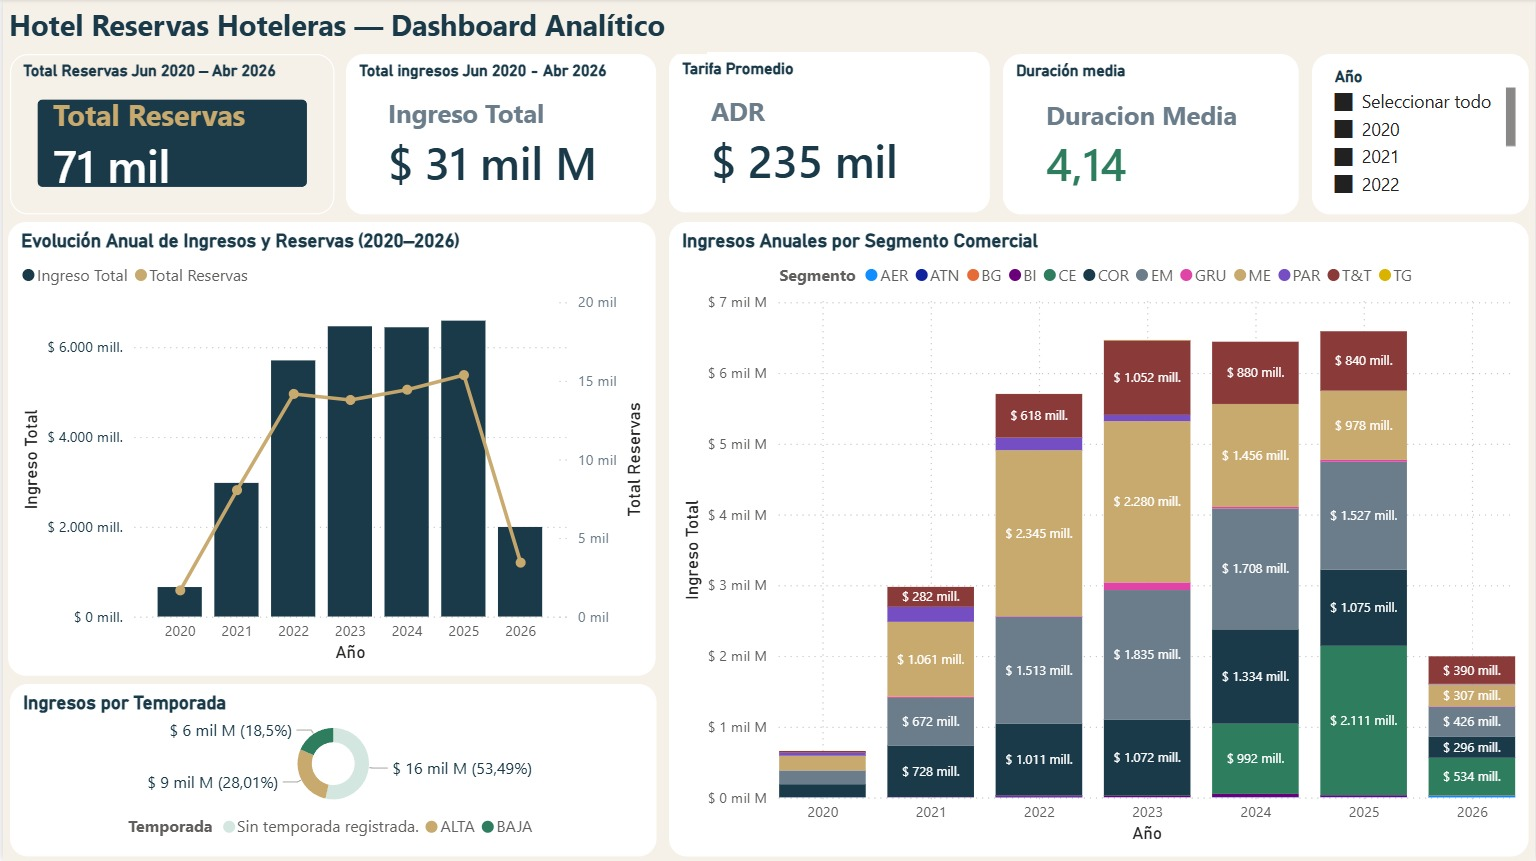

The dashboard page shown, as its layout file describes it:
{"tool":"powerbi","page":{"name":"Resumen","canvas":[1280,720],"ordinal":0},"visuals":[{"type":"cardVisual","title":"Total Reservas Jun 2020 – Abr 2026","fields":{"Data":["fact_reservas.Total Reservas"]},"box":[5.6,45.6,271.1,134.4],"z":0},{"type":"cardVisual","title":"Duración media","fields":{"Data":["fact_reservas.Duracion Media"]},"box":[835.6,45.6,246.7,134.4],"z":1000},{"type":"cardVisual","title":"Total ingresos Jun 2020 - Abr 2026","fields":{"Data":["fact_reservas.Ingreso Total"]},"box":[286.7,45.6,258.9,134.4],"z":2000},{"type":"cardVisual","title":"Tarifa Promedio","fields":{"Data":["fact_reservas.ADR"]},"box":[556.7,44.4,267.8,134.4],"z":3000},{"type":"lineClusteredColumnComboChart","title":"Evolución Anual de Ingresos y Reservas (2020–2026)","fields":{"Category":["dim_fecha.calendario.anio"],"Y":["fact_reservas.Ingreso Total"],"Y2":["fact_reservas.Total Reservas"]},"box":[4.4,186.7,541.1,378.9],"z":4000},{"type":"columnChart","title":"Ingresos Anuales por Segmento Comercial","fields":{"Category":["dim_fecha.calendario.anio"],"Y":["fact_reservas.Ingreso Total"],"Series":["dim_segmento.codigo_segmento"]},"box":[556.7,186.7,717.8,530],"z":5000},{"type":"donutChart","title":"Ingresos por Temporada","fields":{"Category":["dim_temporada.nombre_temporada"],"Y":["fact_reservas.Ingreso Total"]},"box":[5.6,572.2,540,144.4],"z":6000},{"type":"slicer","title":"Año","fields":{"Values":["dim_fecha.calendario.anio"]},"box":[1093.3,45.6,181.1,134.4],"z":7000},{"type":"textbox","box":[0,0,587.6,45.7],"z":8000}]}

Visuals, with their boxes in screenshot pixels (x1, y1, x2, y2), scaled from the page's 1280x720 canvas onto the 1536x861 screenshot:
"Total Reservas Jun 2020 – Abr 2026" cardVisual: {"x1": 7, "y1": 55, "x2": 332, "y2": 215}
"Duración media" cardVisual: {"x1": 1003, "y1": 55, "x2": 1299, "y2": 215}
"Total ingresos Jun 2020 - Abr 2026" cardVisual: {"x1": 344, "y1": 55, "x2": 655, "y2": 215}
"Tarifa Promedio" cardVisual: {"x1": 668, "y1": 53, "x2": 989, "y2": 214}
"Evolución Anual de Ingresos y Reservas (2020–2026)" lineClusteredColumnComboChart: {"x1": 5, "y1": 223, "x2": 655, "y2": 676}
"Ingresos Anuales por Segmento Comercial" columnChart: {"x1": 668, "y1": 223, "x2": 1529, "y2": 857}
"Ingresos por Temporada" donutChart: {"x1": 7, "y1": 684, "x2": 655, "y2": 857}
"Año" slicer: {"x1": 1312, "y1": 55, "x2": 1529, "y2": 215}
textbox: {"x1": 0, "y1": 0, "x2": 705, "y2": 55}
